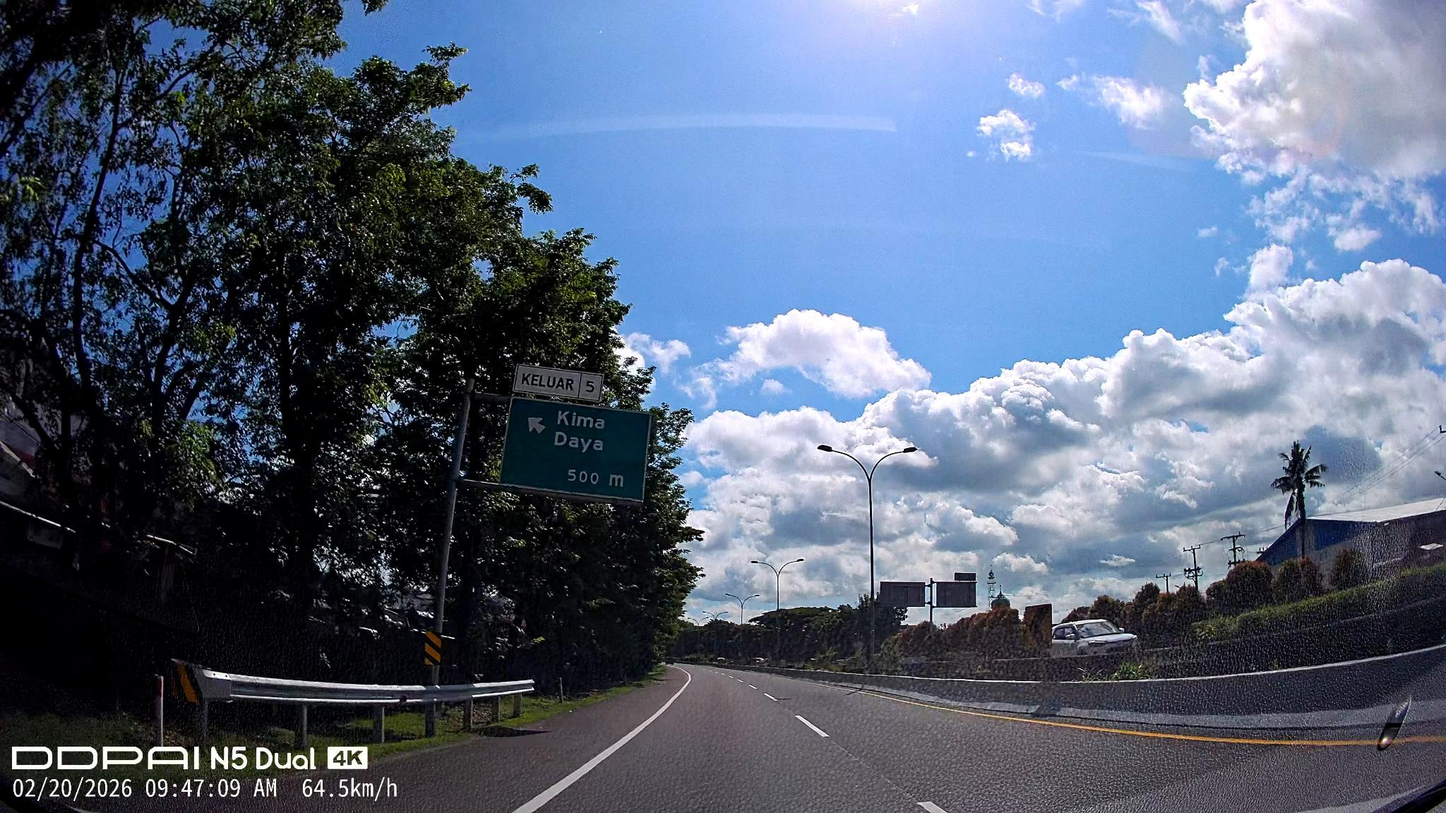rambu_teks: (490, 395, 657, 504)
